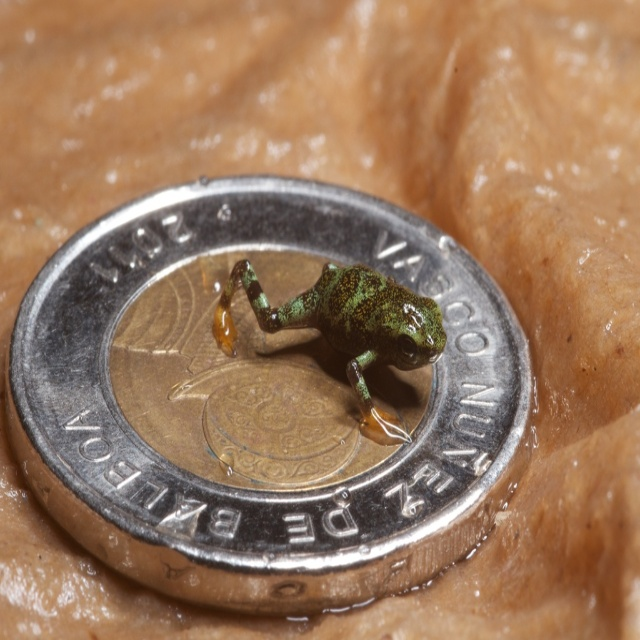Frog: (211, 258, 446, 445)
